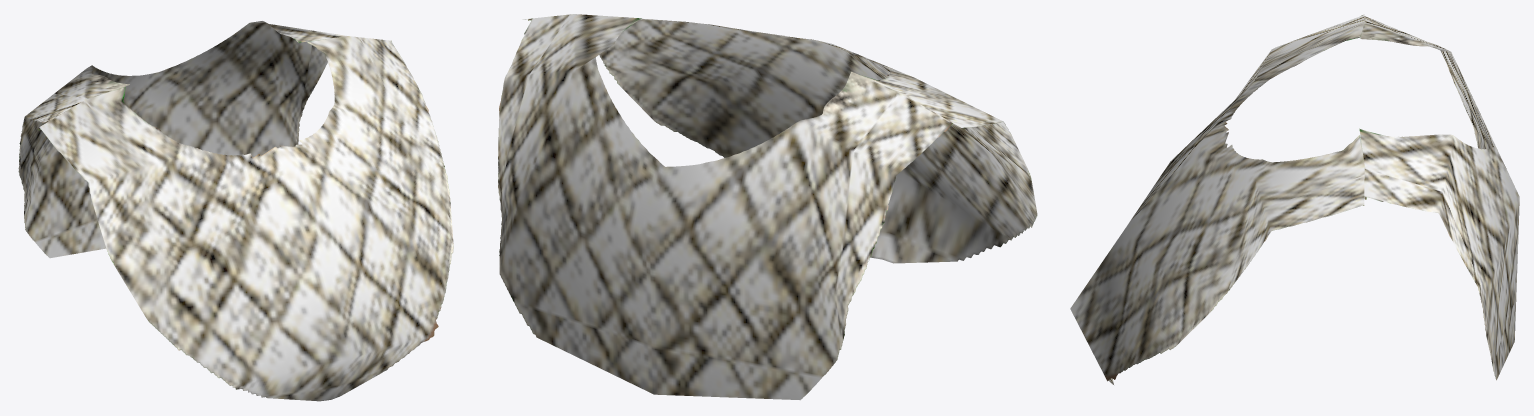
The model's file is armor_p.dae.
3 views of the same model, side by side, from view 1: azimuth 30°, elevation 25°; view 2: azimuth 150°, elevation 25°; view 3: azimuth 270°, elevation 25° (orthographic). The views are drawn at different scales.
Visible parts, largest first — view 1: PEITORALbasico; view 2: PEITORALbasico; view 3: PEITORALbasico.
Boxes of the visible parts, left/top/right/bottom form: PEITORALbasico: left=18, top=21, right=453, bottom=401; PEITORALbasico: left=498, top=14, right=1037, bottom=400; PEITORALbasico: left=1070, top=15, right=1519, bottom=384.
Bounding box in the file's own units: 0.9731 × 0.9321 × 0.6983.
